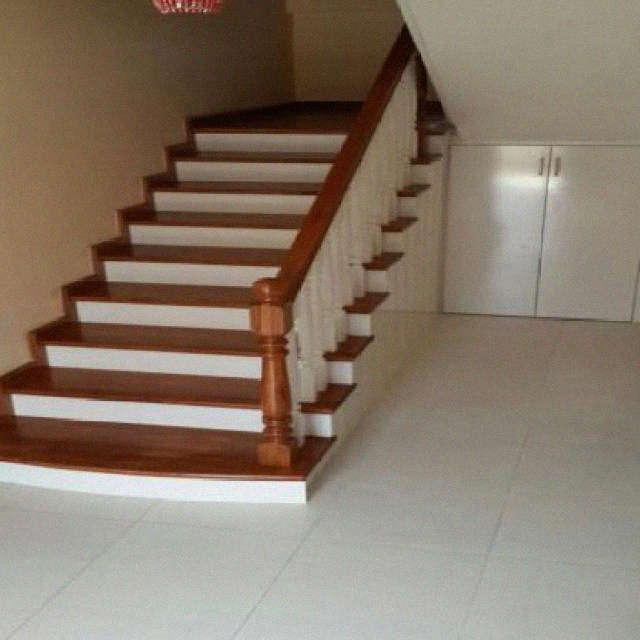stair: (0, 43, 478, 499)
